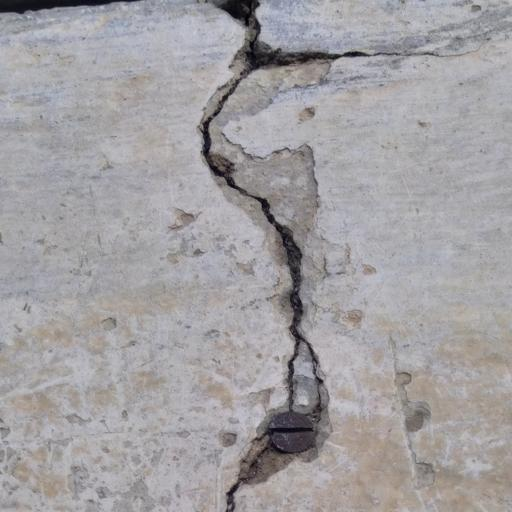major_crack: (178, 0, 356, 512), (0, 0, 136, 36)
